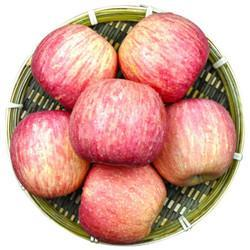apple: (71, 83, 168, 172), (119, 12, 210, 105), (31, 21, 119, 106), (153, 102, 237, 190), (81, 163, 169, 242), (10, 115, 90, 201)
